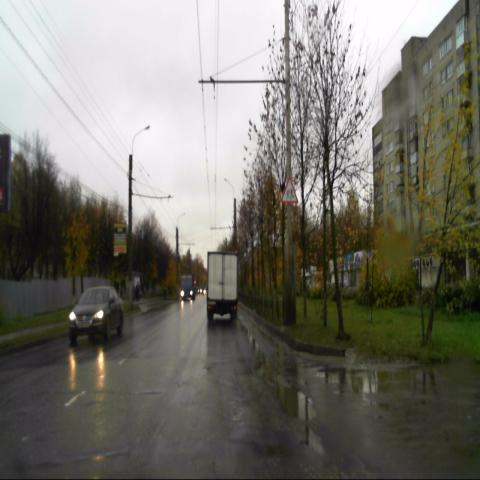1_23: (282, 176, 298, 203)
